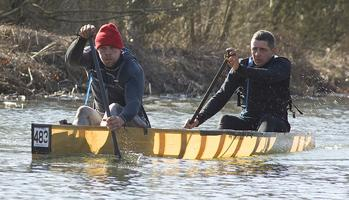person: (181, 31, 292, 134)
